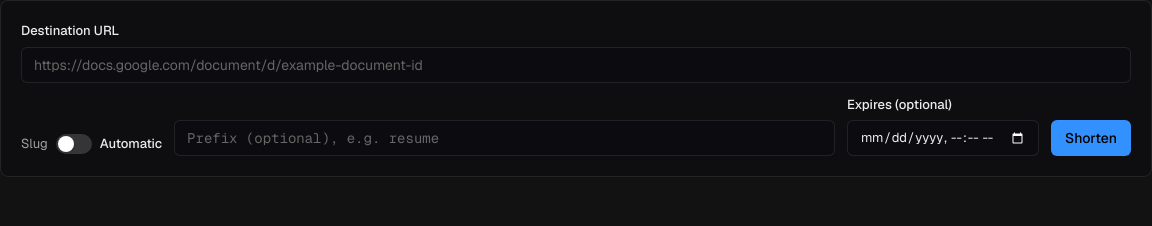
Scenario: CreateForm submission › shows a network error when the API is unreachable
Type "https://example.com" into the field labelled "Destination URL" at (576, 64), box [21,46,1131,82]
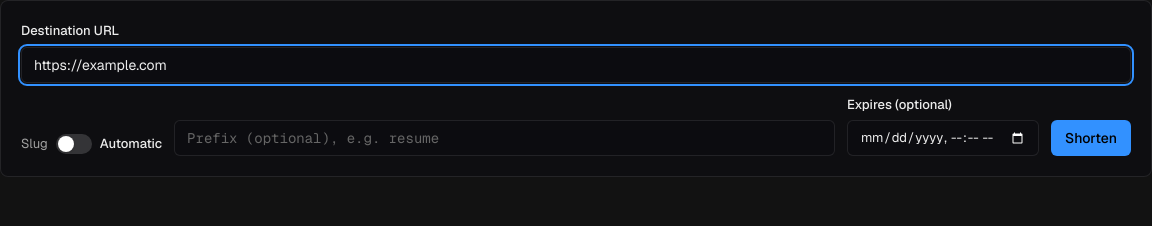
Click the button "Shorten" at (1091, 138), box [1051,120,1131,156]
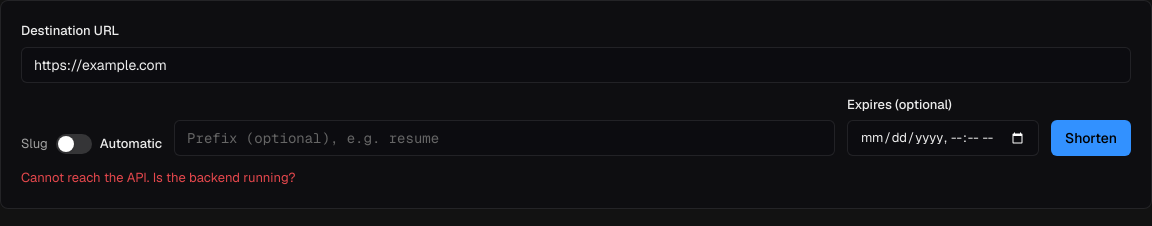
expect the text "Cannot reach the API. Is the backend running?" is shown: met, box [21,169,296,186]
